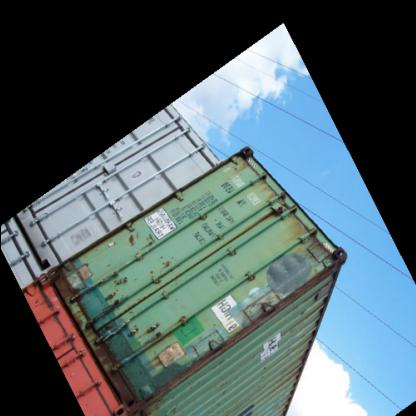Damage: (74, 269, 164, 399), (137, 327, 271, 402), (248, 240, 350, 327)
